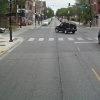crosswalk: (28, 36, 97, 41)
